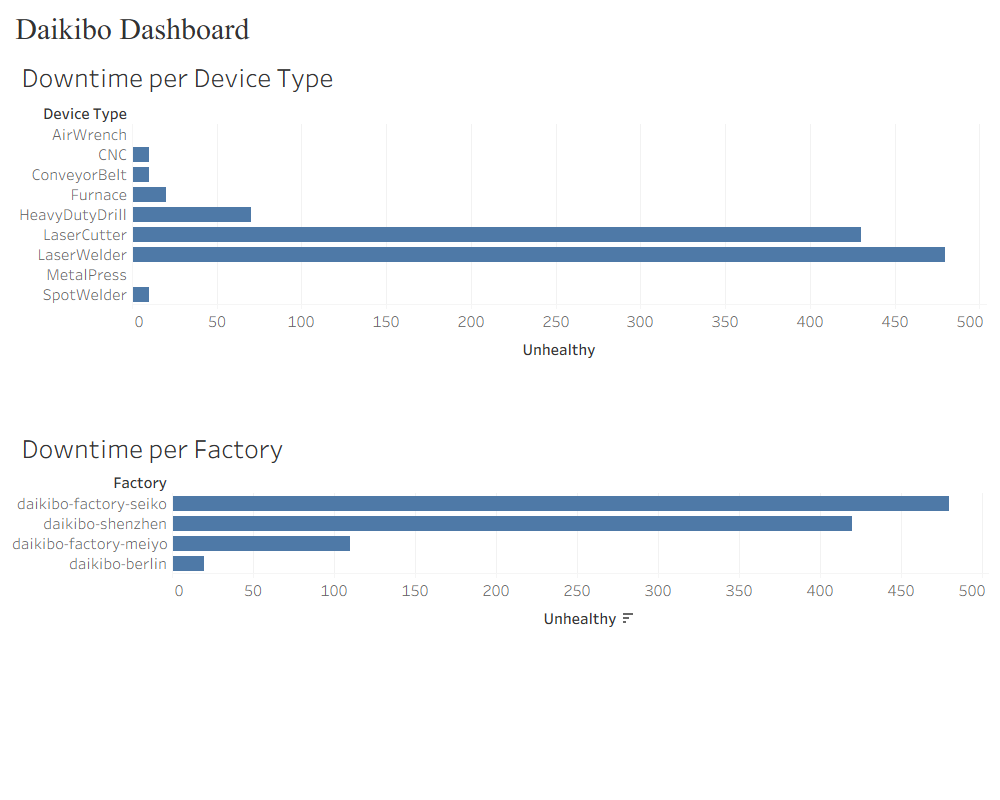

Layout of this report page (visuals, bound fields, positions):
{"tool":"tableau","page":{"name":"daikibo dashboard","canvas":[1000,800],"ordinal":0},"visuals":[{"type":"title","box":[8,8,984,42]},{"type":"worksheet","title":" Downtime per Device Type","mark":"Automatic","rows":["deviceType"],"cols":["Calculation_0574232441675777"],"box":[8,50,984,371]},{"type":"worksheet","title":" Downtime per Factory","mark":"Automatic","rows":["factory"],"cols":["Calculation_0574232441675777"],"box":[8,421,984,371]}]}

Visuals, with their boxes in screenshot pixels (x1, y1, x2, y2), scaled from the page's 1000x800 canvas onto the 1000x800 screenshot:
title: [8,8,992,50]
" Downtime per Device Type" worksheet: [8,50,992,421]
" Downtime per Factory" worksheet: [8,421,992,792]
